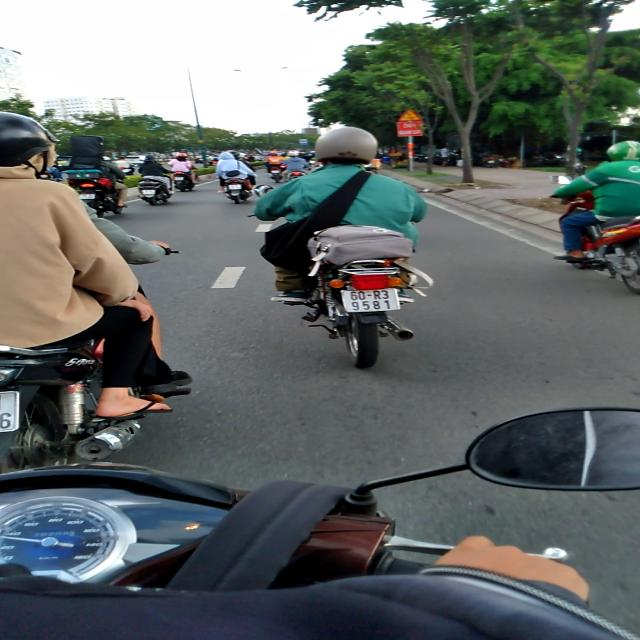W.245a: (398, 108, 422, 121)
